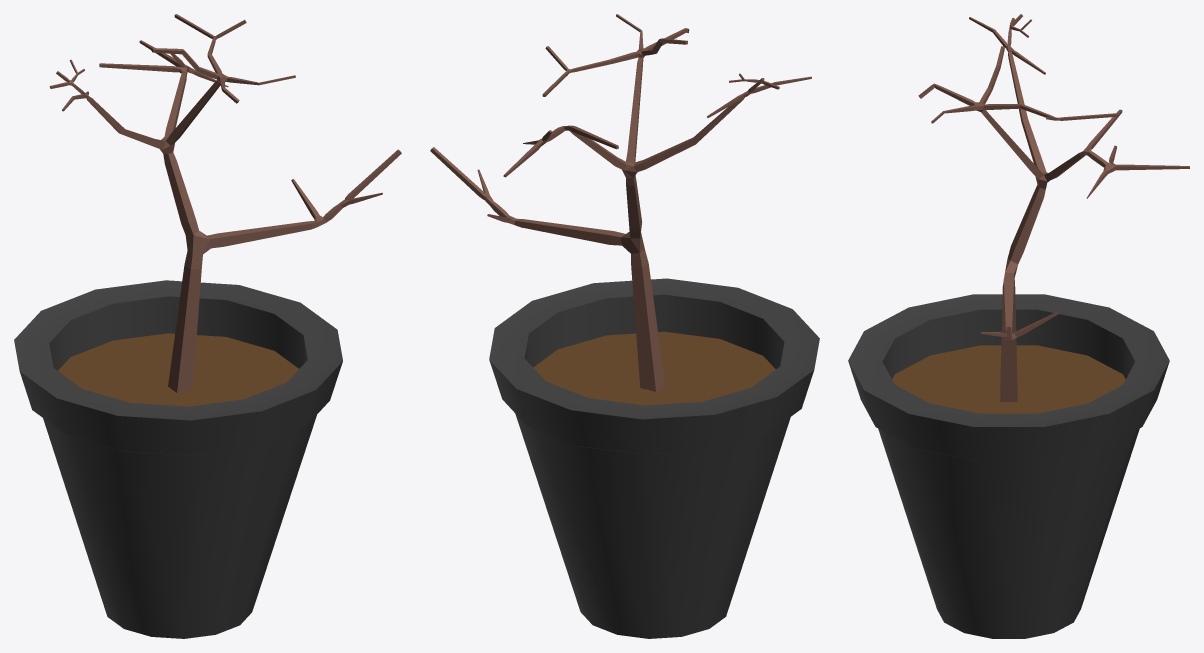
The model's file is present_plant.fbx.
The picture shows the model from 3 angles, left to right: view 1: azimuth 30°, elevation 25°; view 2: azimuth 150°, elevation 25°; view 3: azimuth 270°, elevation 25°; orthographic projection. The views are drawn at different scales.
Visible parts, largest first — view 1: plant pot, Vert; view 2: plant pot, Vert; view 3: plant pot, Vert.
Part boxes in pixels (x1=…): plant pot: x1=14, y1=280, x2=342, y2=638; Vert: x1=49, y1=14, x2=401, y2=392; plant pot: x1=489, y1=278, x2=819, y2=638; Vert: x1=430, y1=14, x2=811, y2=391; plant pot: x1=848, y1=294, x2=1169, y2=638; Vert: x1=918, y1=14, x2=1189, y2=401.
Bounding box in the file's own units: 265 × 397 × 224.
